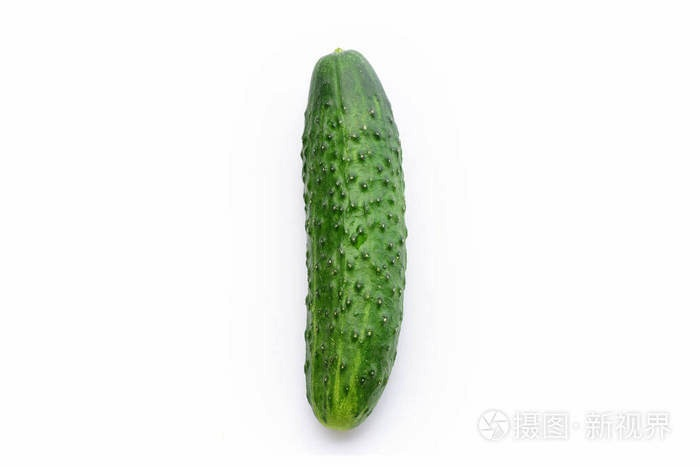cucumber: (297, 47, 403, 434)
